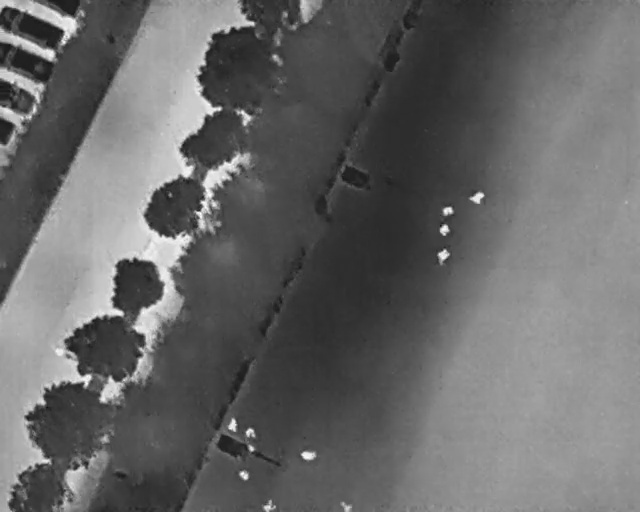Car: (0, 4, 66, 52), (0, 40, 54, 82), (0, 75, 37, 116), (30, 0, 84, 19), (0, 114, 16, 147)
Person: (466, 187, 488, 207), (433, 246, 452, 268), (301, 450, 317, 462), (439, 223, 451, 238), (441, 204, 454, 217), (261, 499, 275, 511), (227, 417, 238, 432), (244, 428, 257, 439), (340, 500, 353, 511), (238, 471, 249, 481)
